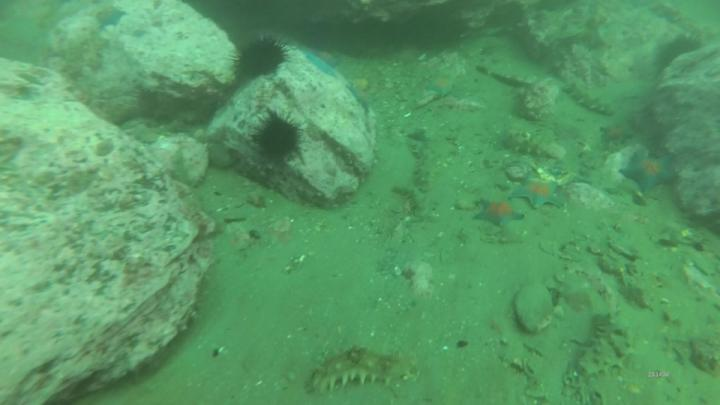echinus: (244, 107, 311, 173), (227, 37, 290, 82)
holothurian: (309, 346, 421, 396), (577, 311, 637, 378), (403, 137, 434, 218), (502, 127, 569, 163), (563, 79, 618, 121)
starfish: (622, 146, 680, 198), (514, 176, 570, 214), (473, 194, 526, 232), (596, 121, 638, 151), (424, 73, 459, 100), (95, 6, 128, 33), (314, 47, 343, 70)
